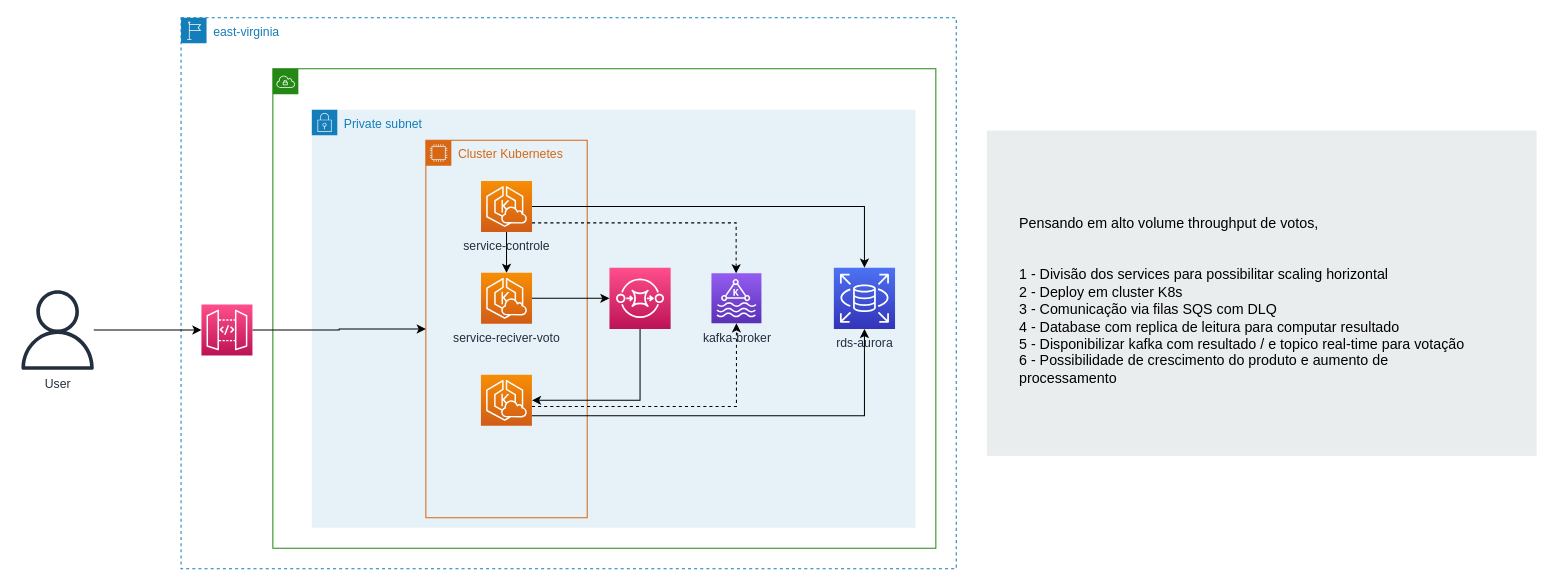
This 1553x587 diagram has some shape labels left out. The shapes that lost their labels are listed below. From the top down, each one's box as (x1, y1, x2, y2) in pixels, then its label:
(272, 68, 936, 548): VPC - Sicred
(608, 267, 671, 329): sqs-voto
(200, 303, 252, 355): gateway
(480, 374, 532, 426): service-processor-voto
